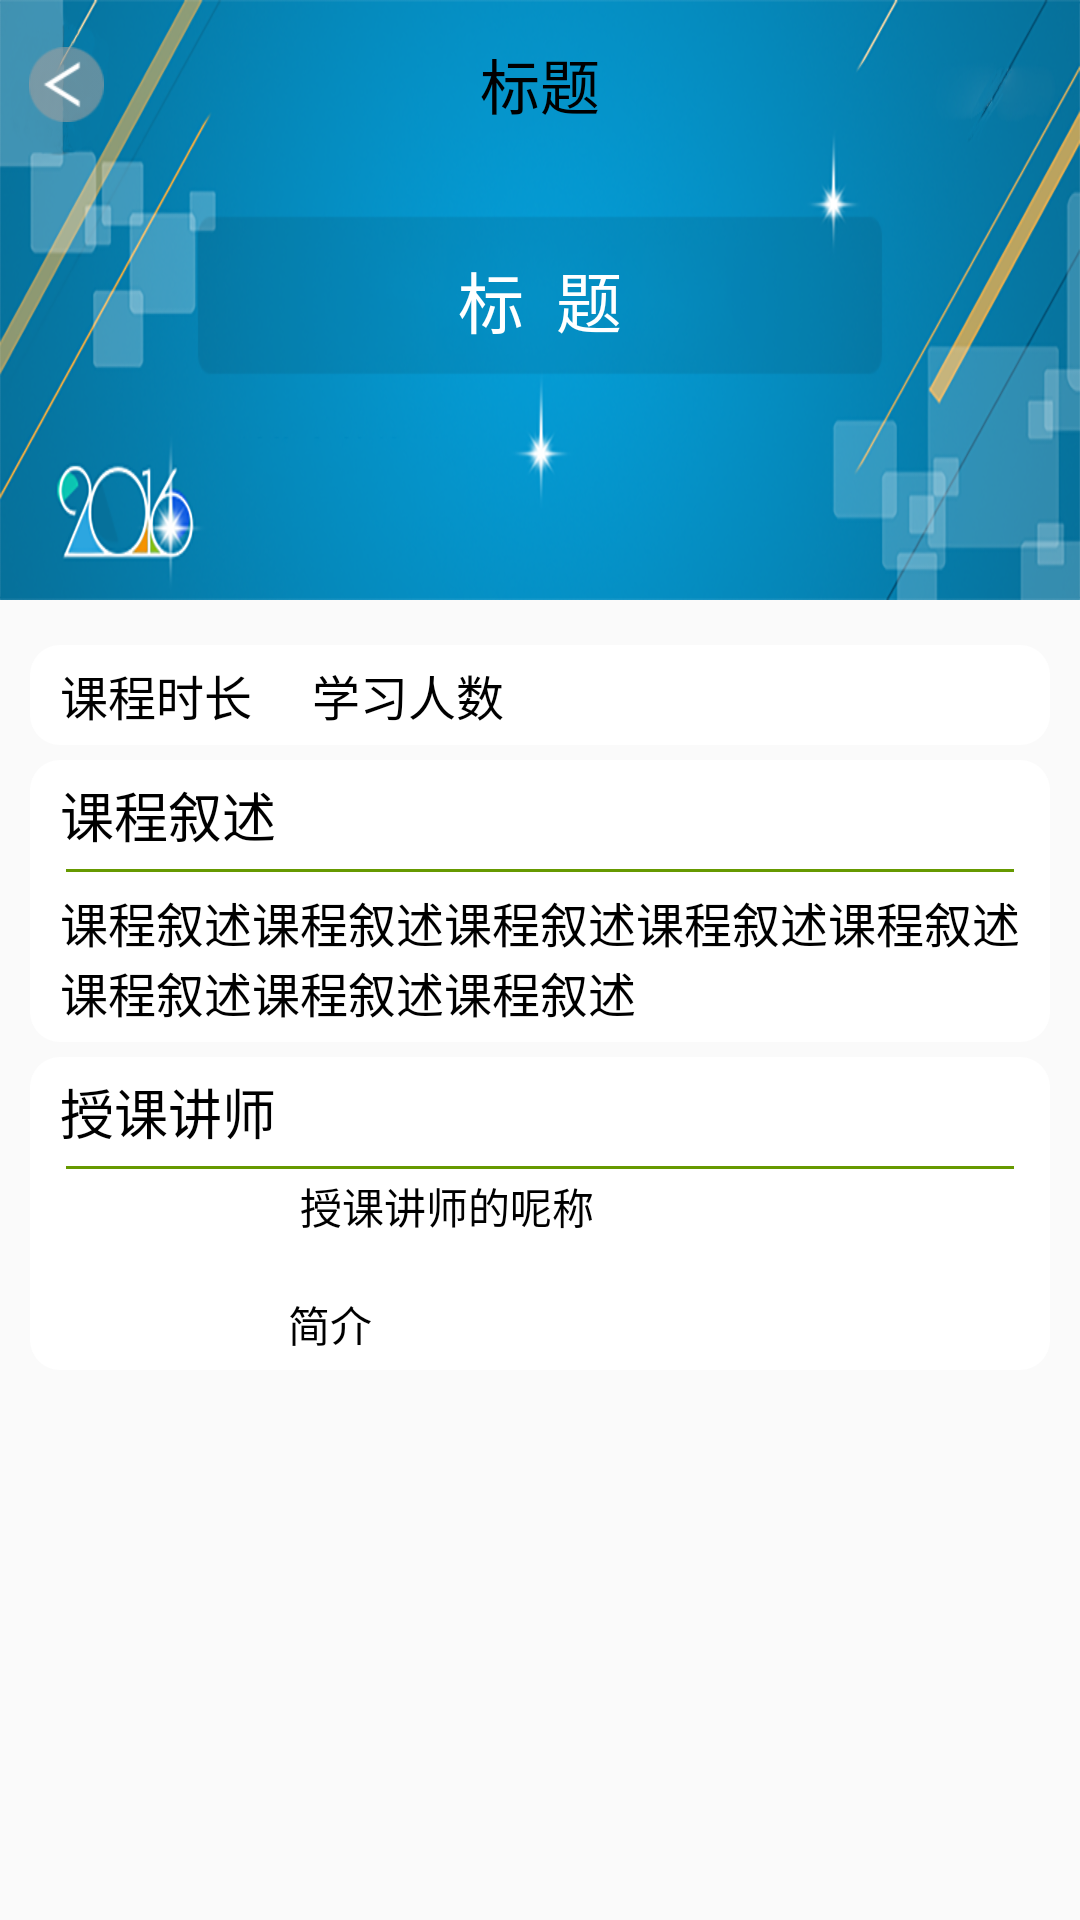

Icons on this 1080*1920 Android screen, each with the point to tap as [x,y]:
back: [66,84]
